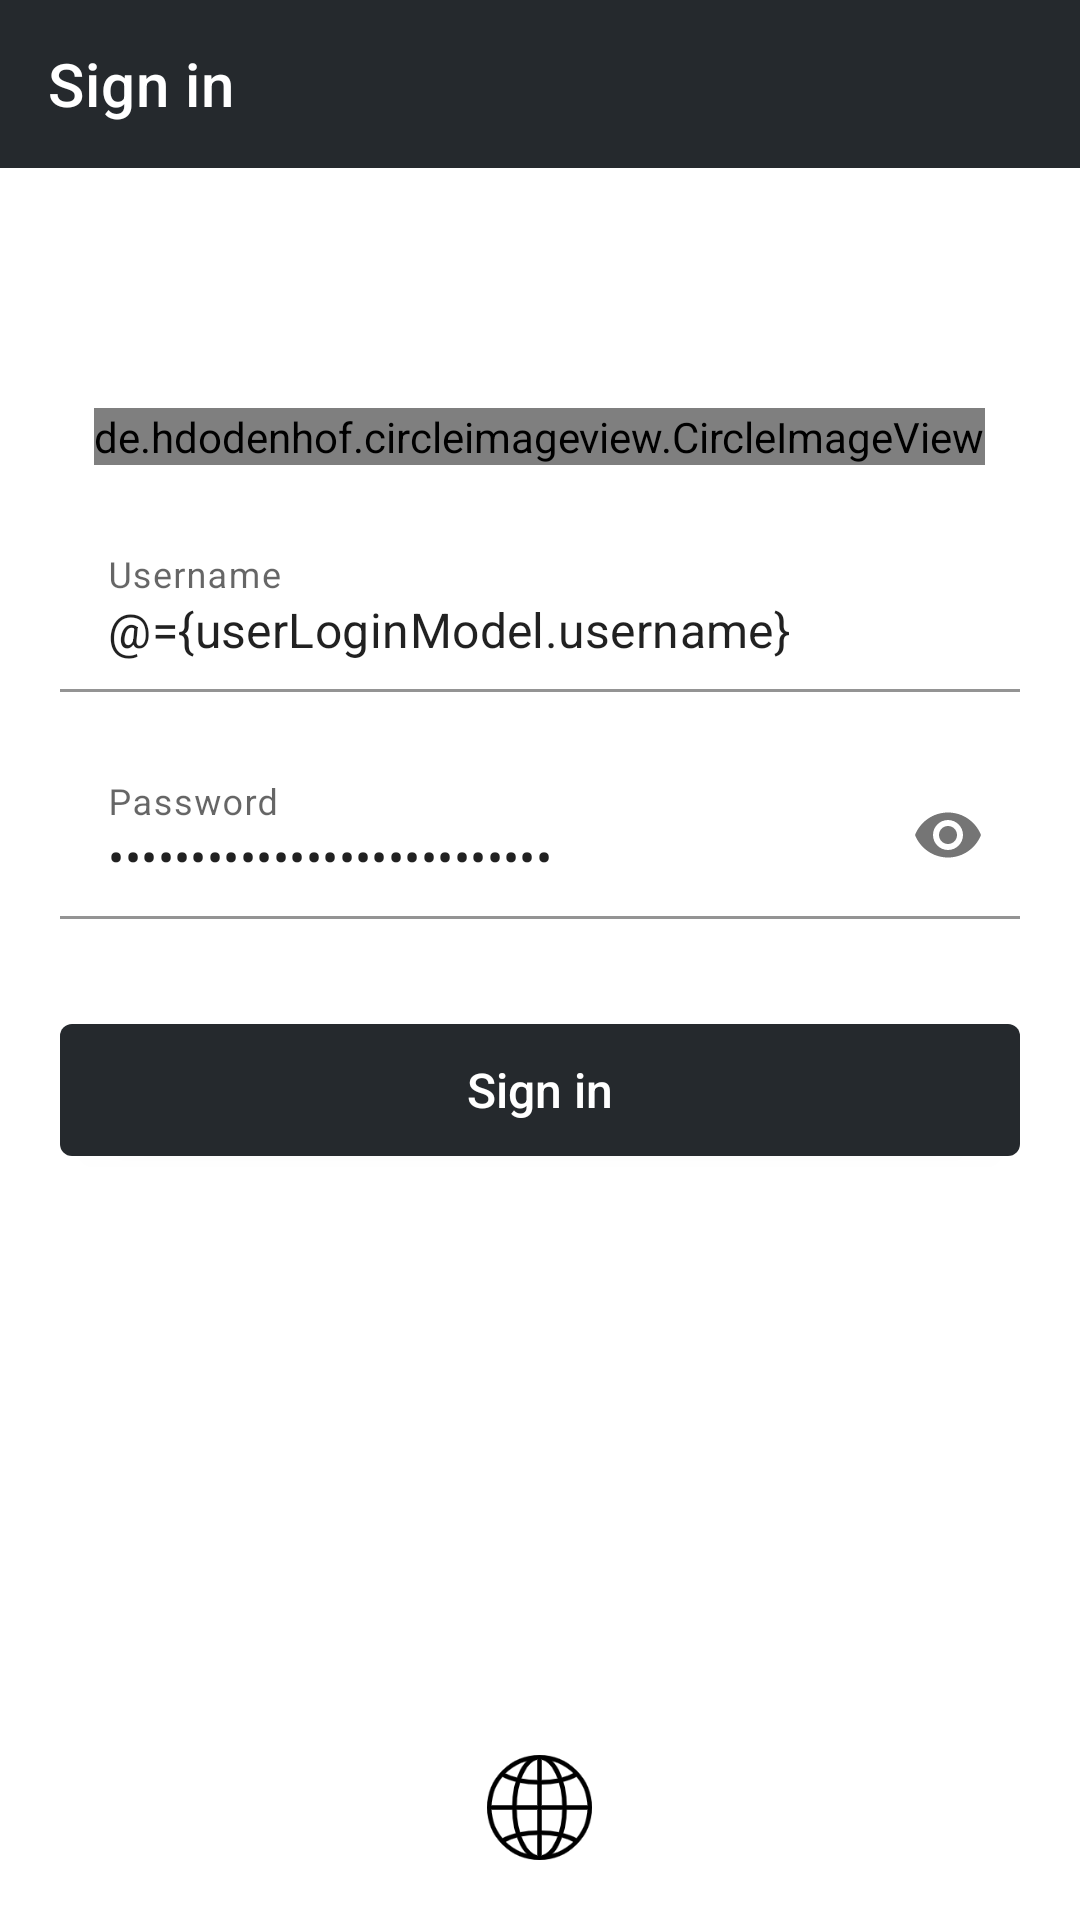

Named icons in this screenshot (1080w x 1920h) and their centers, point (x, y):
browser: point (539, 1807)
